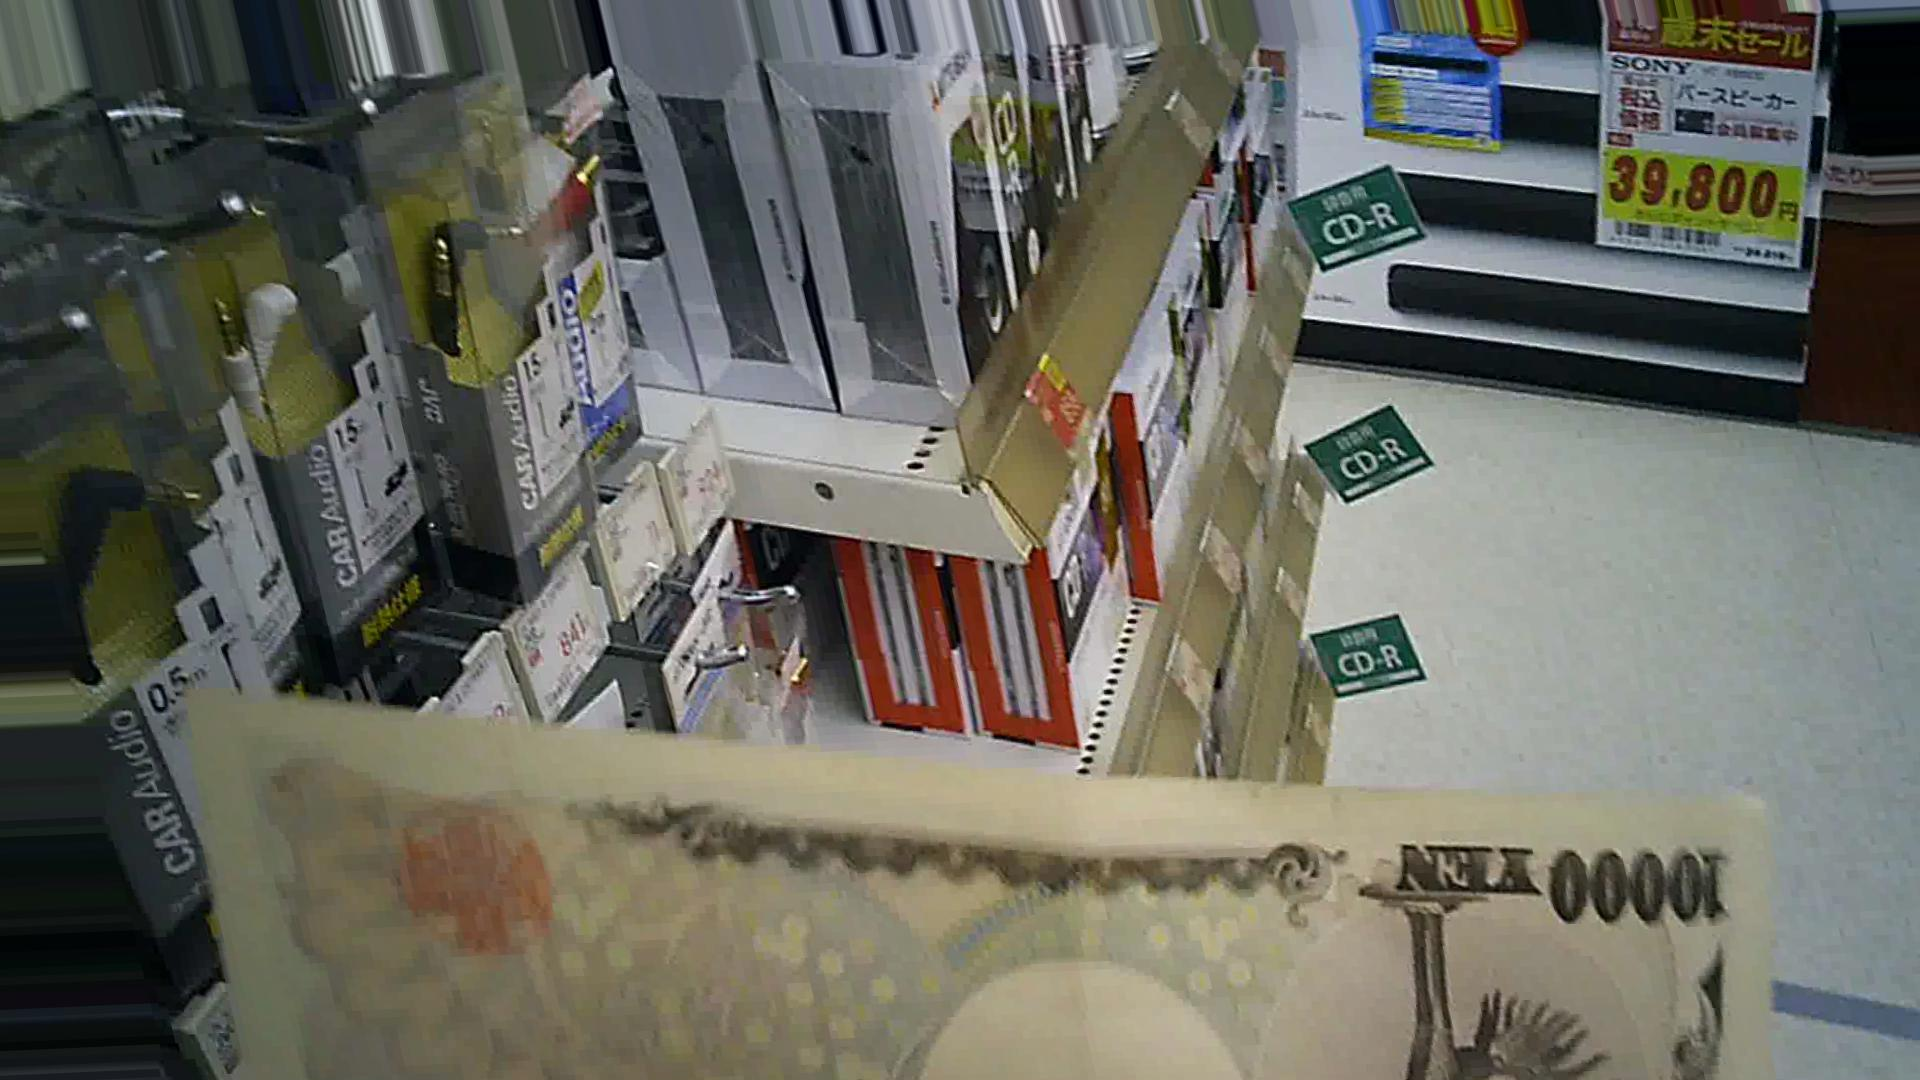10,000 Yen: (179, 632, 1812, 1075)
